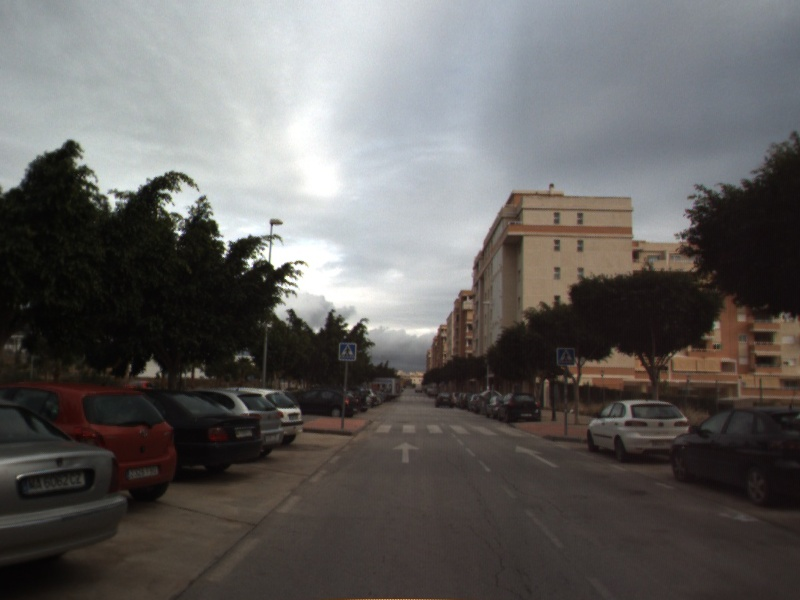STRAIGHT: (514, 444, 561, 469), (391, 440, 422, 464)
